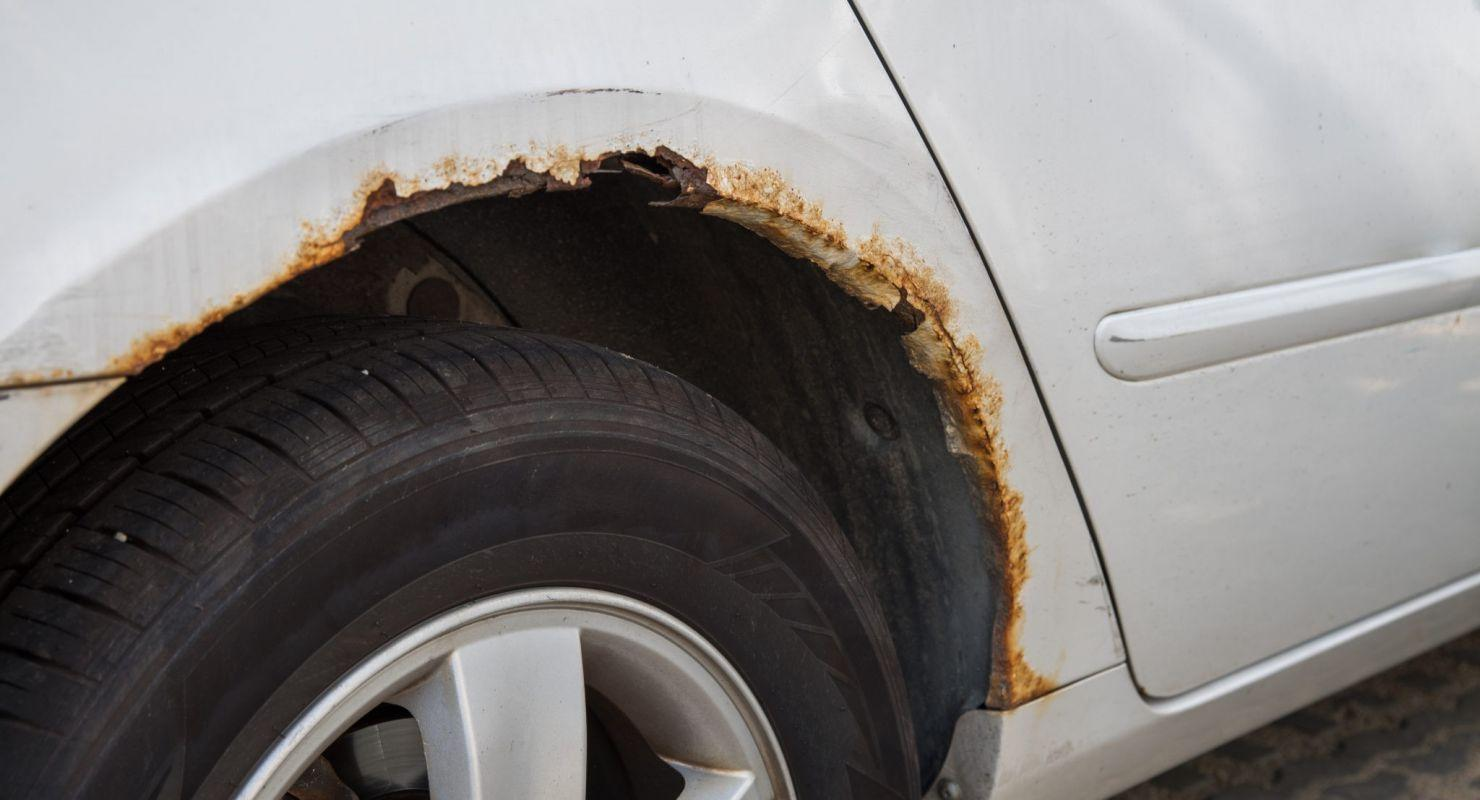corrosion: (859, 184, 1098, 711), (294, 123, 865, 298), (1, 269, 330, 397)
